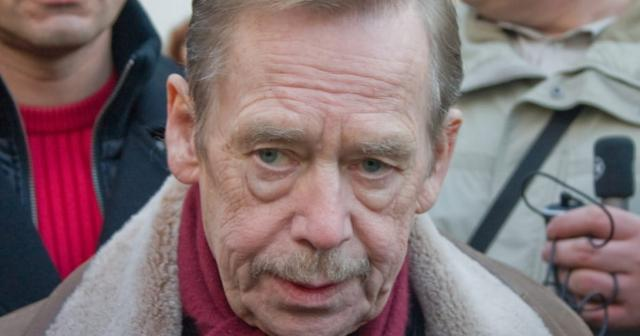crows_feet: (220, 161, 247, 197), (401, 162, 419, 193)
forehead: (340, 69, 404, 113), (257, 65, 329, 99)
frown_line: (318, 116, 347, 148)
masseter: (222, 244, 242, 290), (370, 260, 390, 302)
